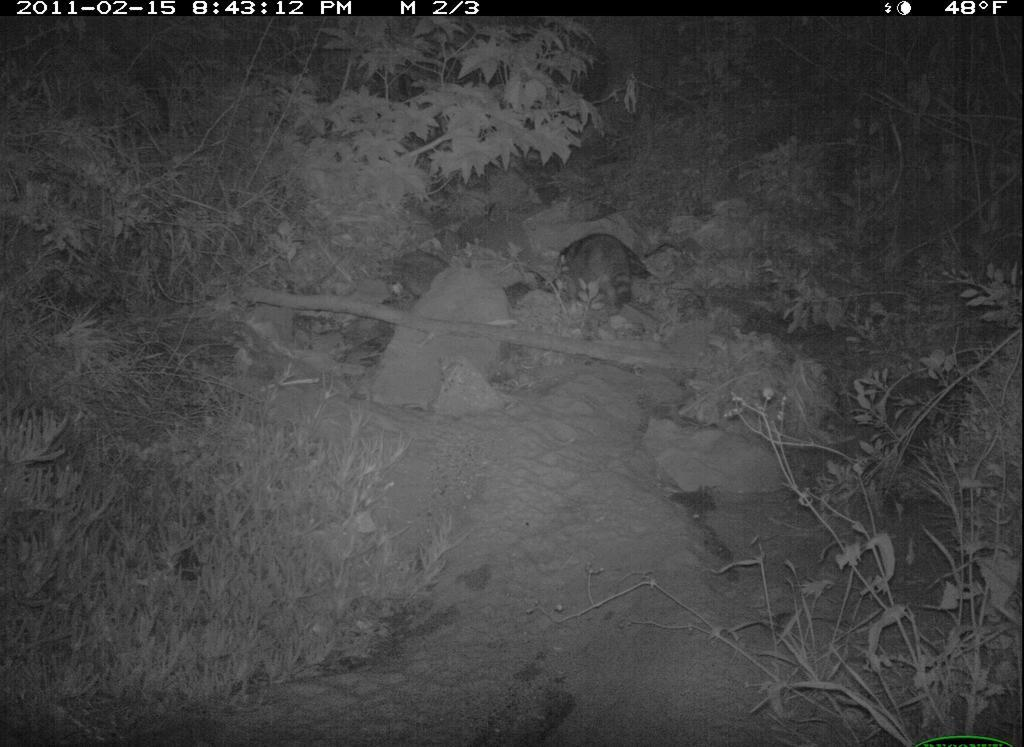raccoon: (534, 222, 664, 337)
